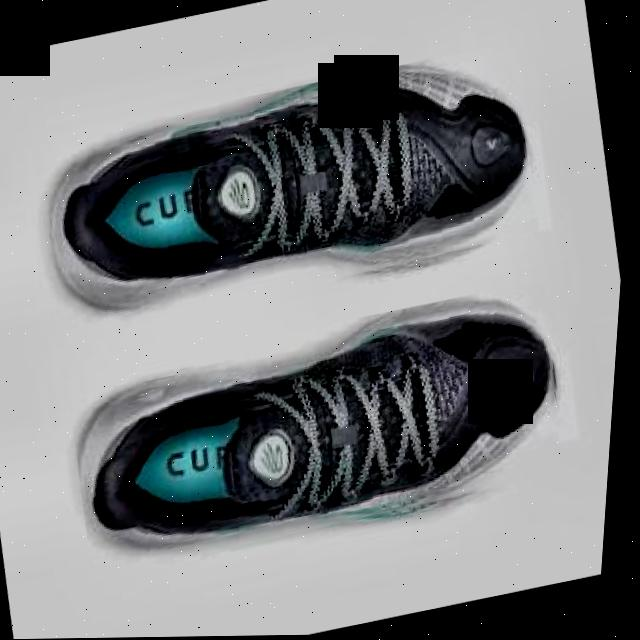shoe: (25, 43, 555, 345), (62, 280, 589, 580)
